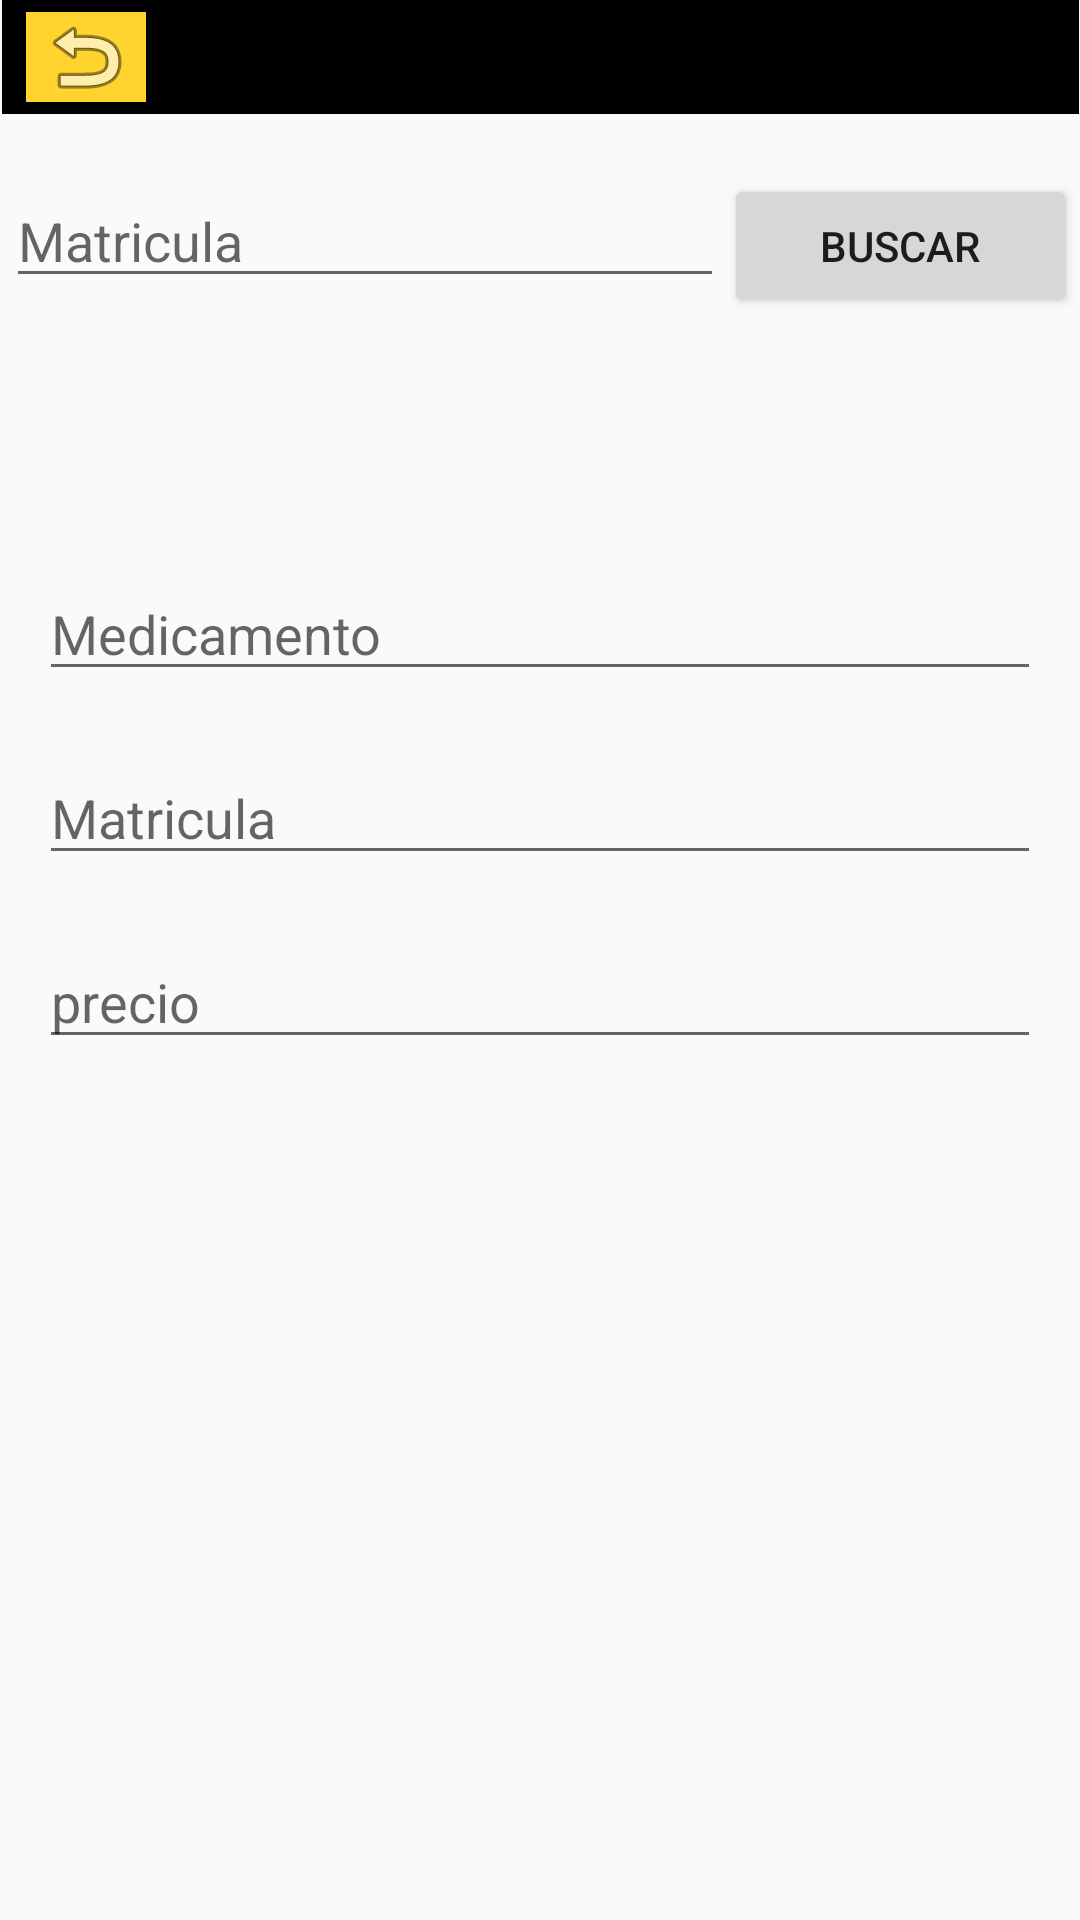

Named icons in this screenshot (1080 × 1920) and their centers, (x,y):
revert: (86,57)
